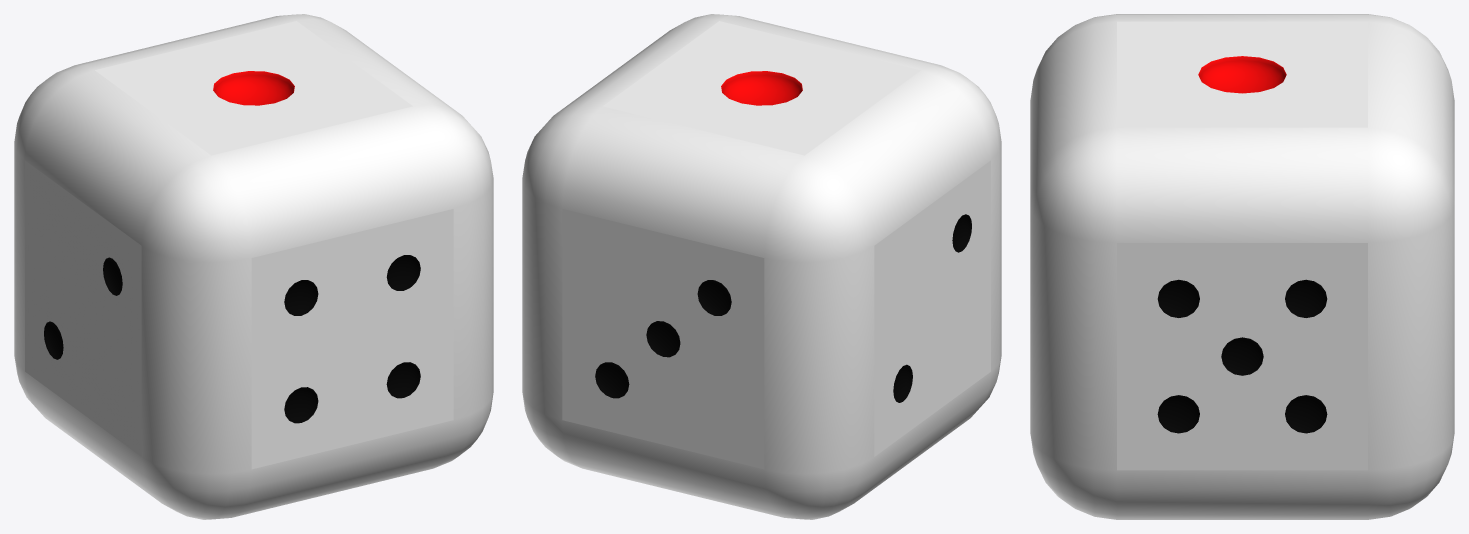
File: saikoro.fbx
3 renders of one model, left to right at view 1: azimuth 30°, elevation 25°; view 2: azimuth 150°, elevation 25°; view 3: azimuth 270°, elevation 25°, orthographic. The views are drawn at different scales.
Parts seen in each view (by area): view 1: Cube; view 2: Cube; view 3: Cube.
Boxes of the visible parts, box(x1,y1,x2,y2) form: Cube: box(14, 14, 493, 519); Cube: box(522, 14, 1001, 519); Cube: box(1030, 14, 1454, 519).
Size of the model in its own units: 200 by 200 by 200.
Materials: 1 (1 with a texture image).
